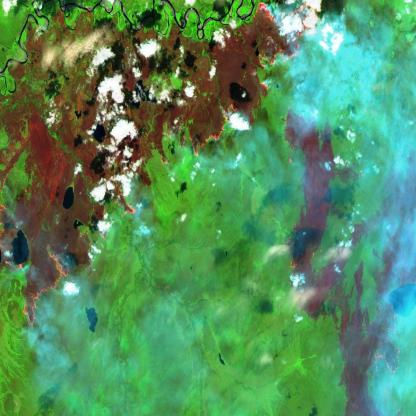fire: (1, 220, 100, 330), (174, 80, 271, 164), (250, 0, 321, 71), (107, 180, 145, 232), (284, 228, 319, 283), (145, 116, 173, 174)
